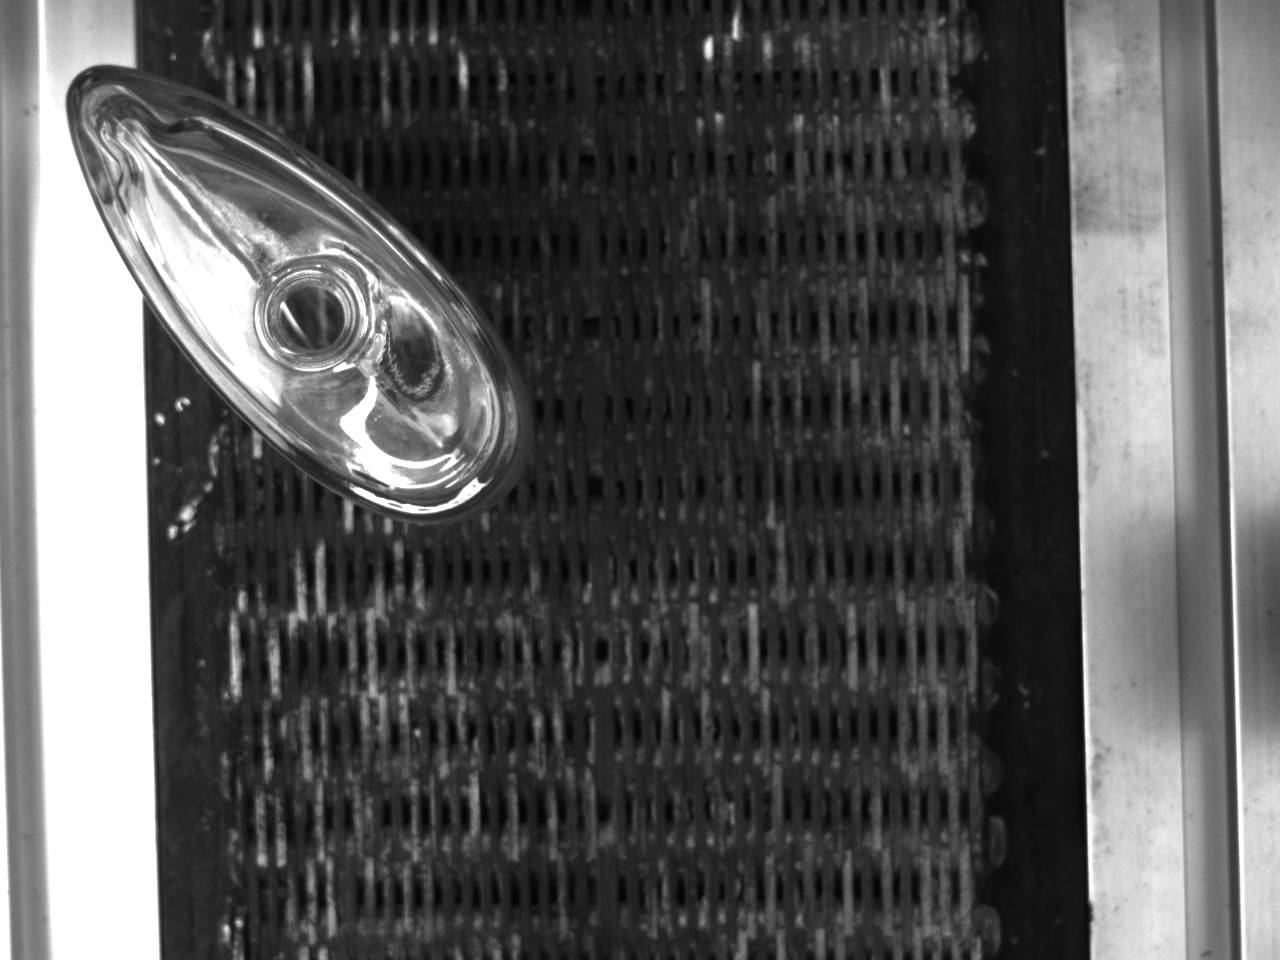bottleneck: (256, 259, 373, 372)
